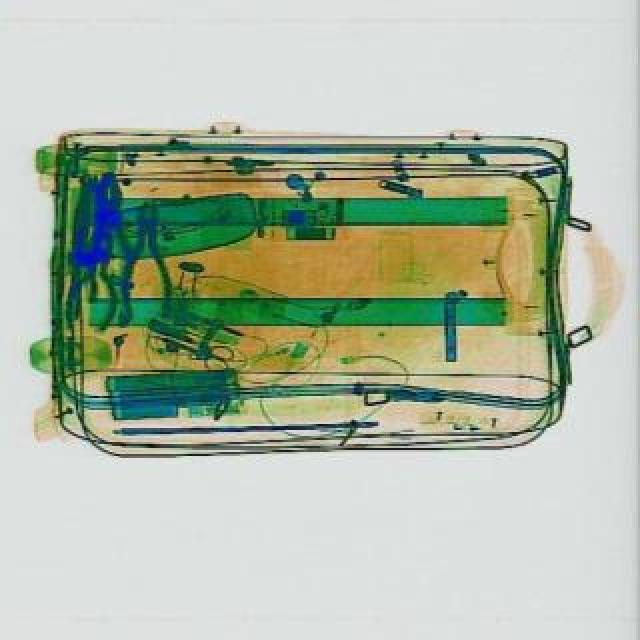wrench: (74, 172, 142, 286), (66, 226, 130, 336), (122, 204, 178, 328)
